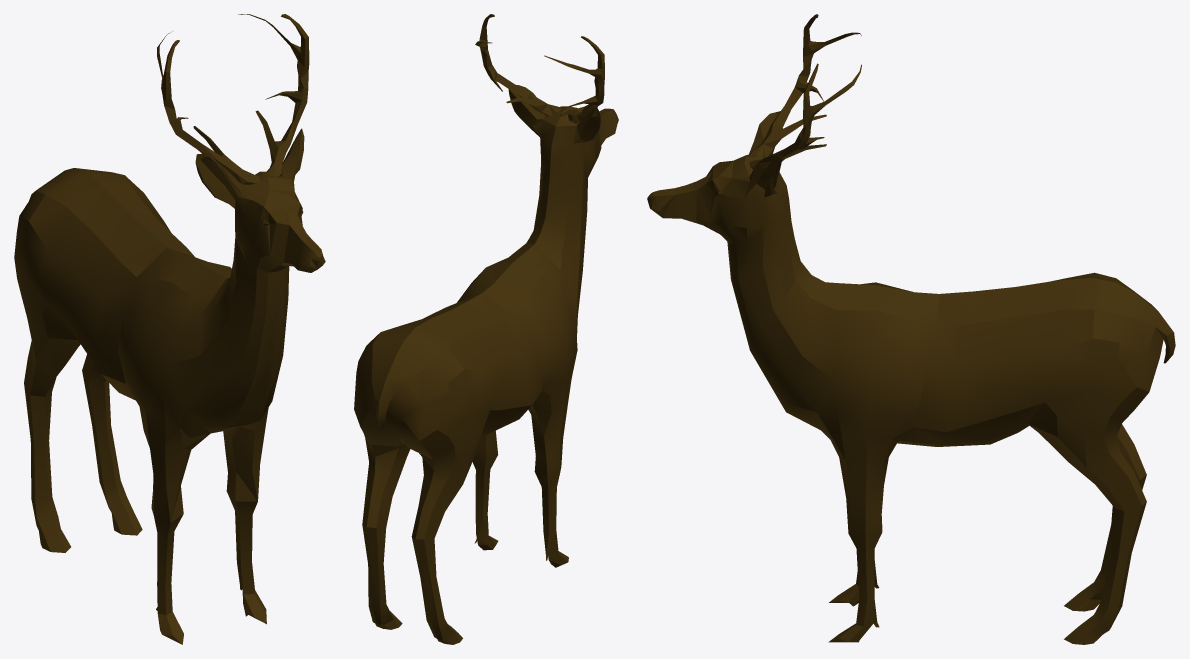
The model's file is deer1.obj.
3 renders of one model, left to right at view 1: azimuth 30°, elevation 25°; view 2: azimuth 150°, elevation 25°; view 3: azimuth 270°, elevation 25°, orthographic. The views are drawn at different scales.
Parts seen in each view (by area): view 1: deer_1; view 2: deer_1; view 3: deer_1.
Part boxes in pixels (x1,y1,x2,y2): deer_1: (14, 14, 325, 644); deer_1: (354, 14, 618, 644); deer_1: (647, 14, 1175, 644).
Size of the model in its own units: 101 by 410 by 336.
